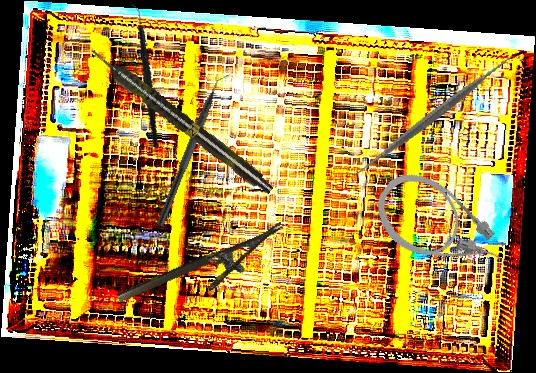Cannula: (362, 158, 517, 299)
Chopper: (98, 1, 190, 149), (155, 65, 235, 232)
Handpiece: (86, 43, 278, 199)
Needle Holder: (115, 221, 295, 326)
Spatula Surgical: (345, 25, 521, 207)
